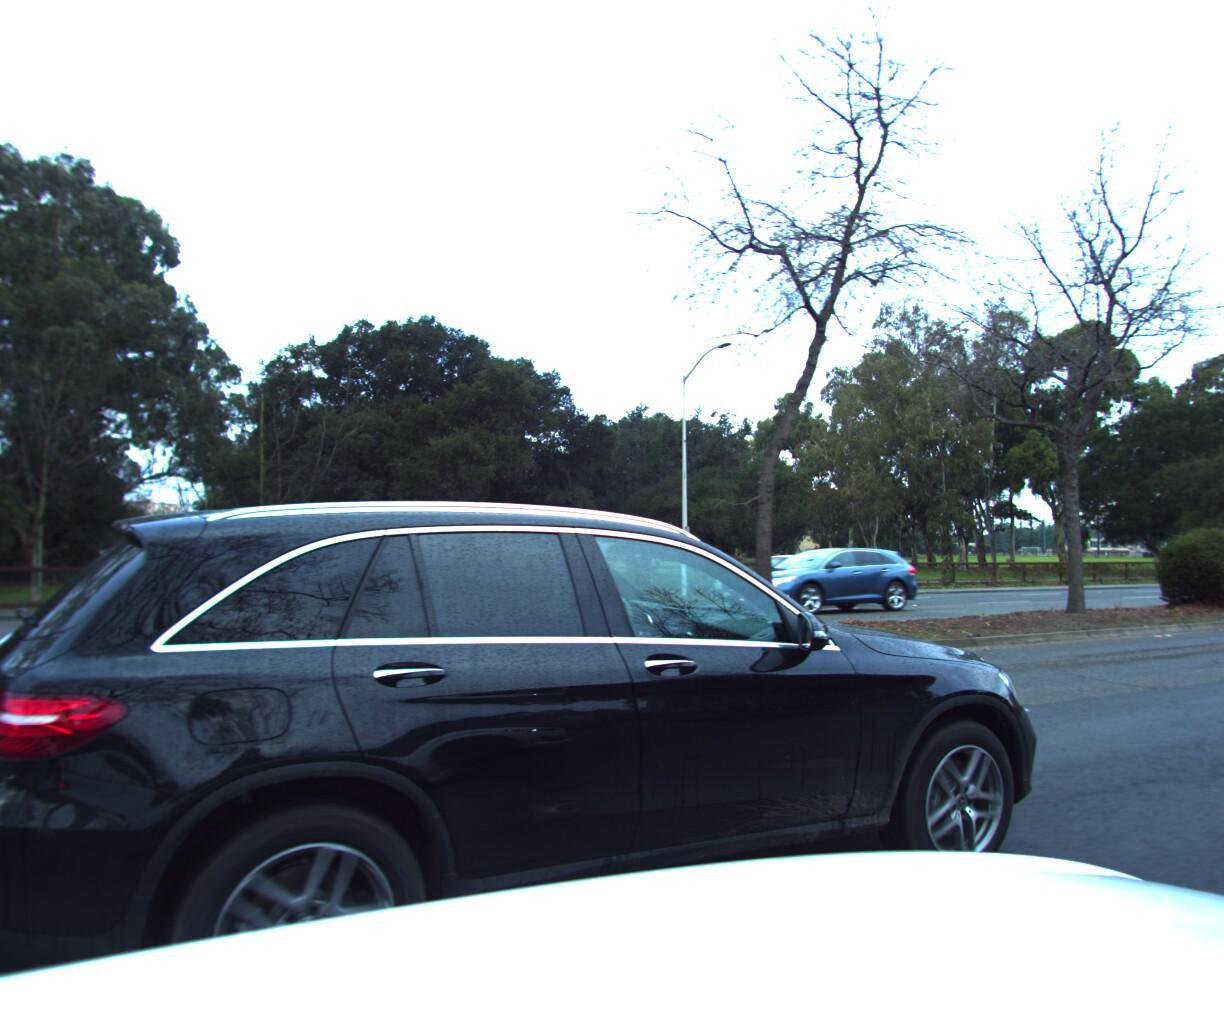car: (0, 460, 1082, 1024), (726, 536, 931, 614), (706, 548, 873, 613), (626, 548, 676, 586)
